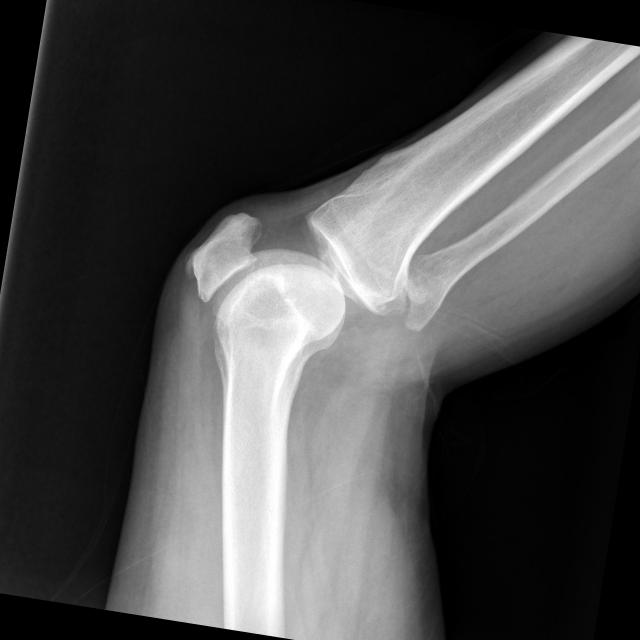Knee: (178, 170, 422, 378)
